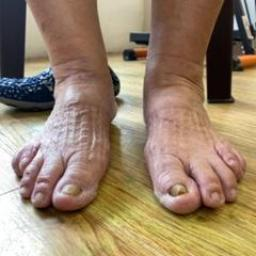Front View -Both Feet-: (3, 46, 252, 226)
